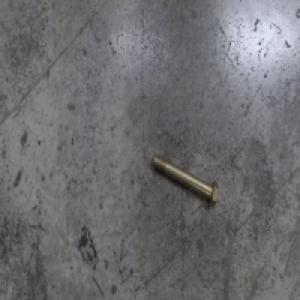Bolt: (151, 151, 219, 209)
